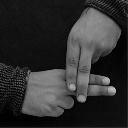hand: (64, 7, 121, 103), (19, 68, 116, 117)
